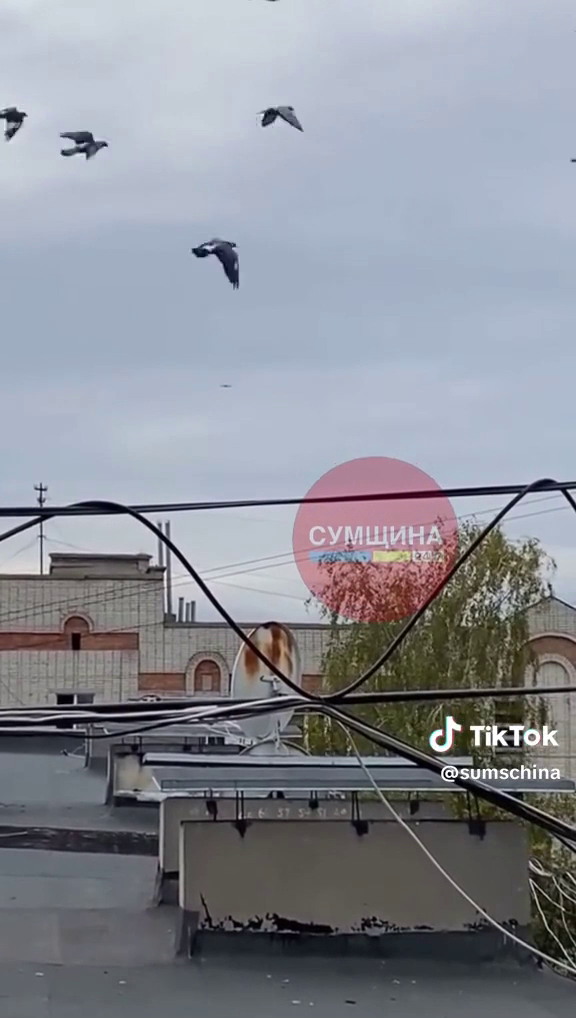not_drone: (184, 224, 254, 294), (52, 123, 118, 166), (250, 96, 311, 138), (0, 103, 37, 151)
